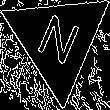N_SW: (32, 9, 84, 71)
